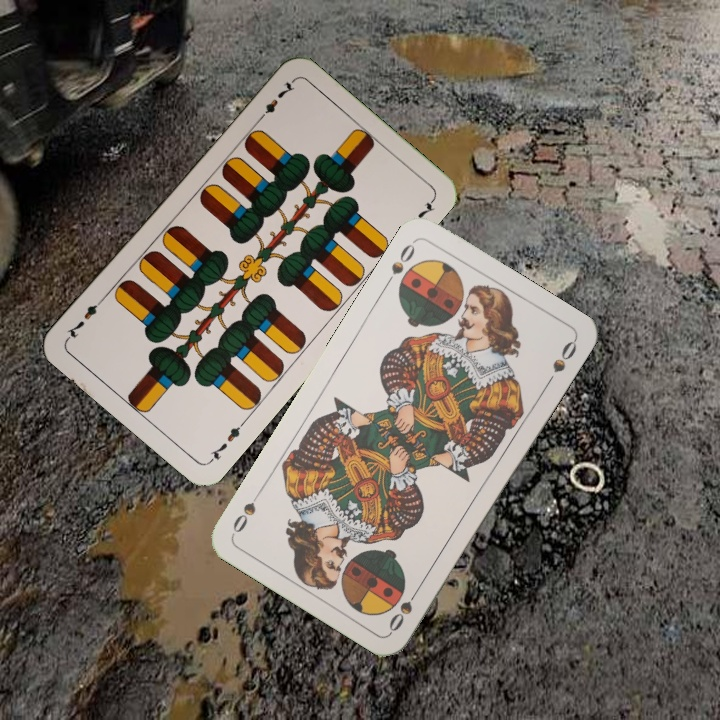E7: (253, 76, 298, 125), (205, 416, 249, 465)
SO: (384, 581, 424, 635), (381, 236, 418, 290)
